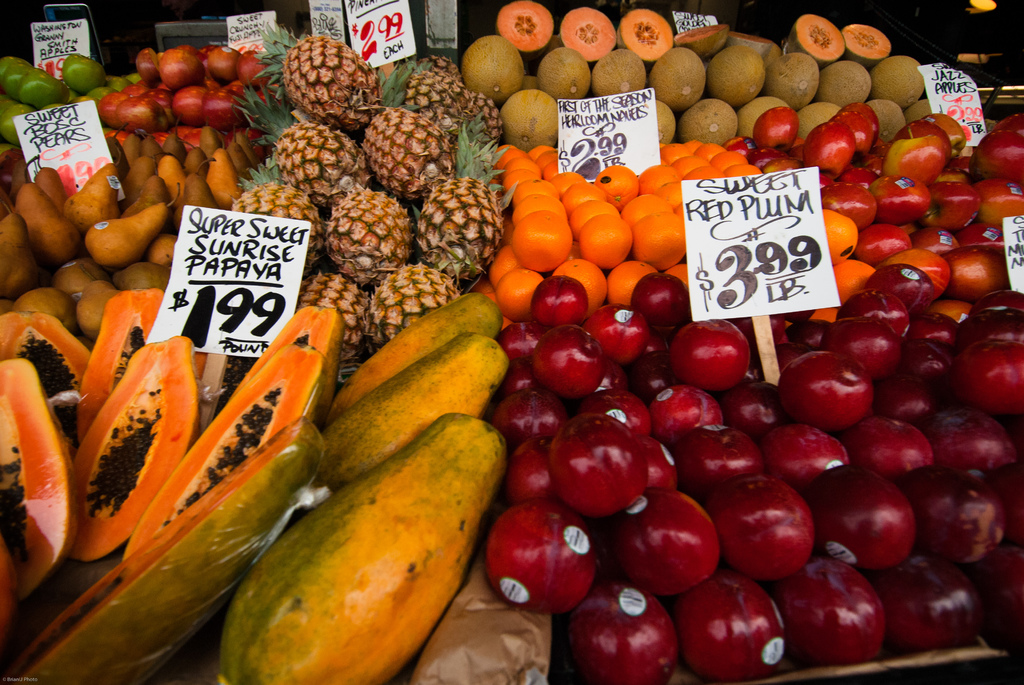Apple: (483, 97, 1023, 681), (709, 482, 818, 583)
